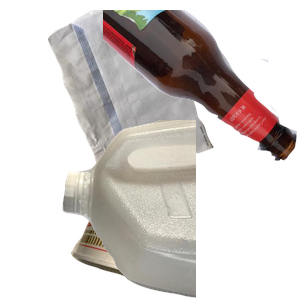glass: (103, 10, 300, 163)
paper: (45, 10, 251, 190)
plastic: (60, 120, 300, 300)
trash: (68, 158, 235, 300)
